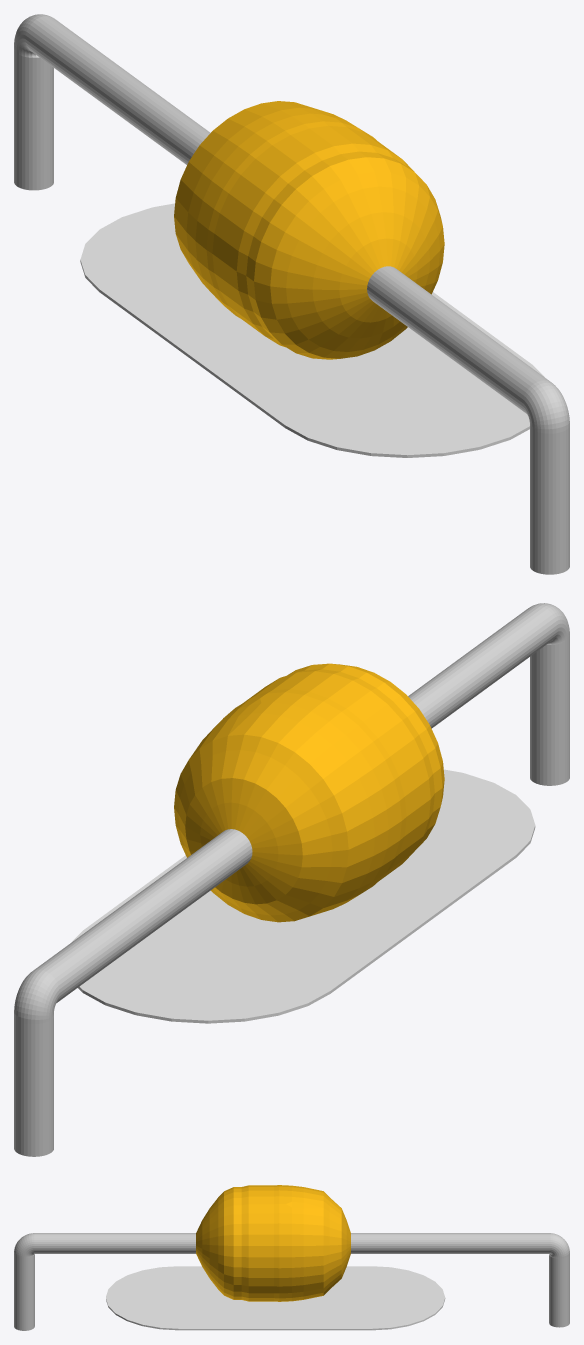
The model's file is yellow_cap_6.gltf.
3 views of the same model, one above another, from view 1: azimuth 30°, elevation 25°; view 2: azimuth 150°, elevation 25°; view 3: azimuth 270°, elevation 25° (orthographic). The views are drawn at different scales.
Visible parts, largest first — view 1: yellow_cap_6, yellow_cap_6_plane; view 2: yellow_cap_6, yellow_cap_6_plane; view 3: yellow_cap_6, yellow_cap_6_plane.
Part boxes in pixels (bbox=[...]): yellow_cap_6: bbox=[14, 14, 569, 574]; yellow_cap_6_plane: bbox=[80, 203, 544, 457]; yellow_cap_6: bbox=[14, 603, 569, 1156]; yellow_cap_6_plane: bbox=[71, 769, 535, 1023]; yellow_cap_6: bbox=[14, 1185, 569, 1330]; yellow_cap_6_plane: bbox=[106, 1266, 445, 1330].
Bounding box in the file's own units: 0.018 × 0.0183 × 0.0676.
